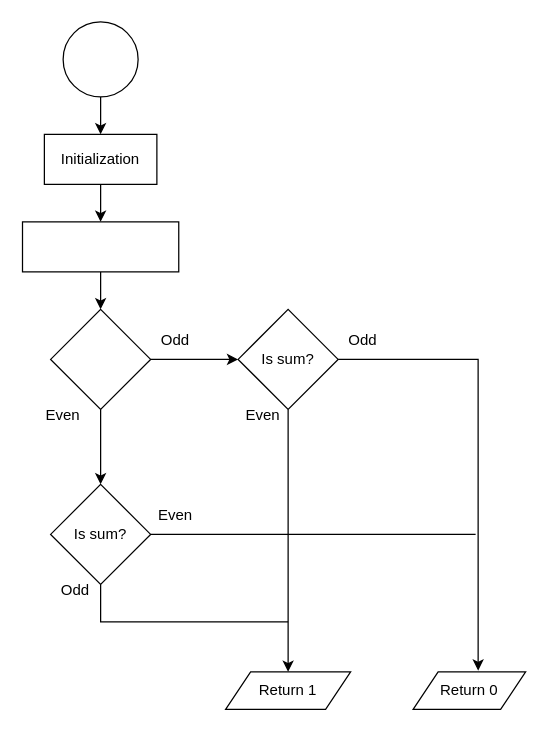
This 548x731 diagram has some shape labels left out. Each missing label, with the centre of its shape:
"Is type ?" belongs at point (100, 358).
"START" belongs at point (100, 59).
"Sum each element in data" belongs at point (100, 246).
